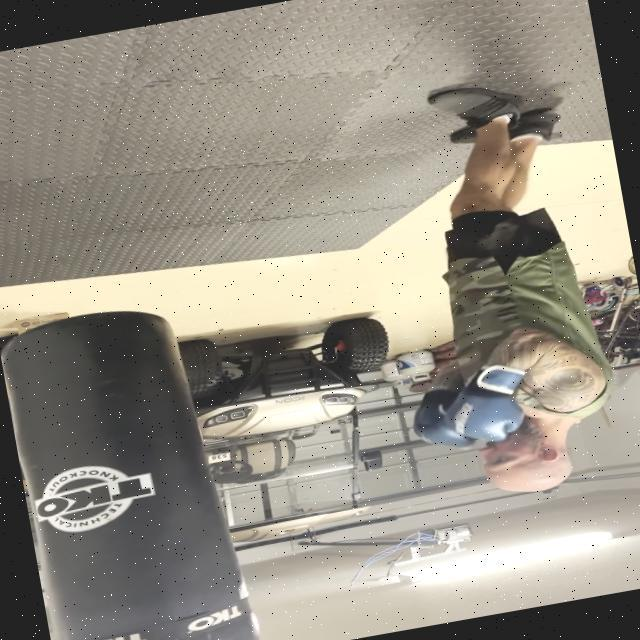hook: (346, 282, 636, 546)
